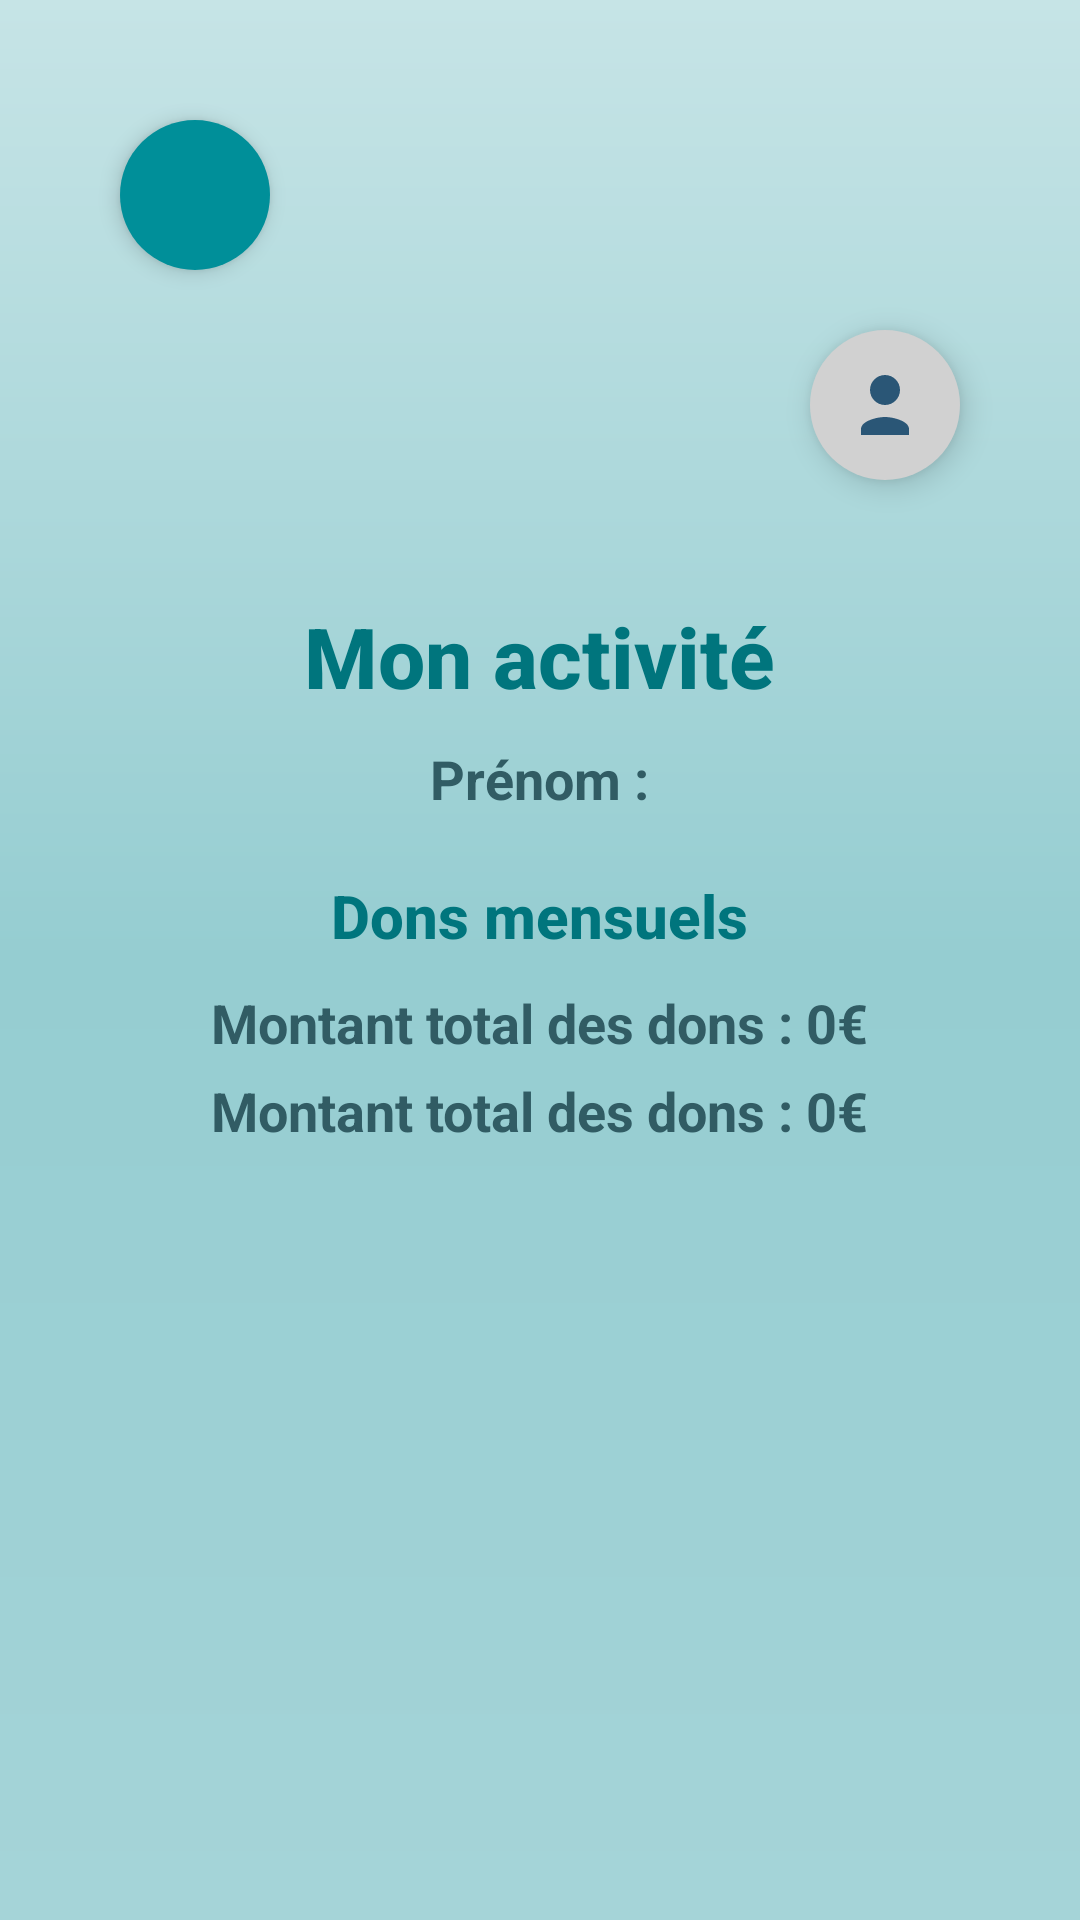

Point at icon controls on the screen. Image size 1080px×1920px, points as [x,y].
Profil: [885,405]
